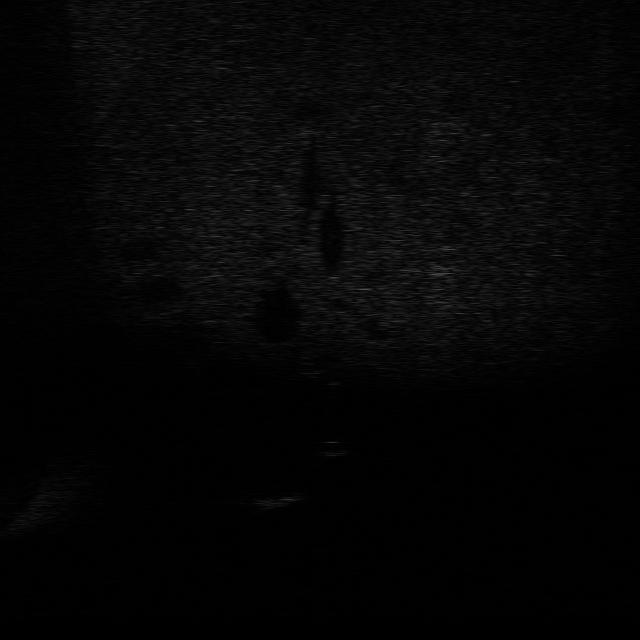ball: (311, 438, 350, 459)
human body: (296, 345, 342, 412)
square cage: (245, 480, 305, 514)
